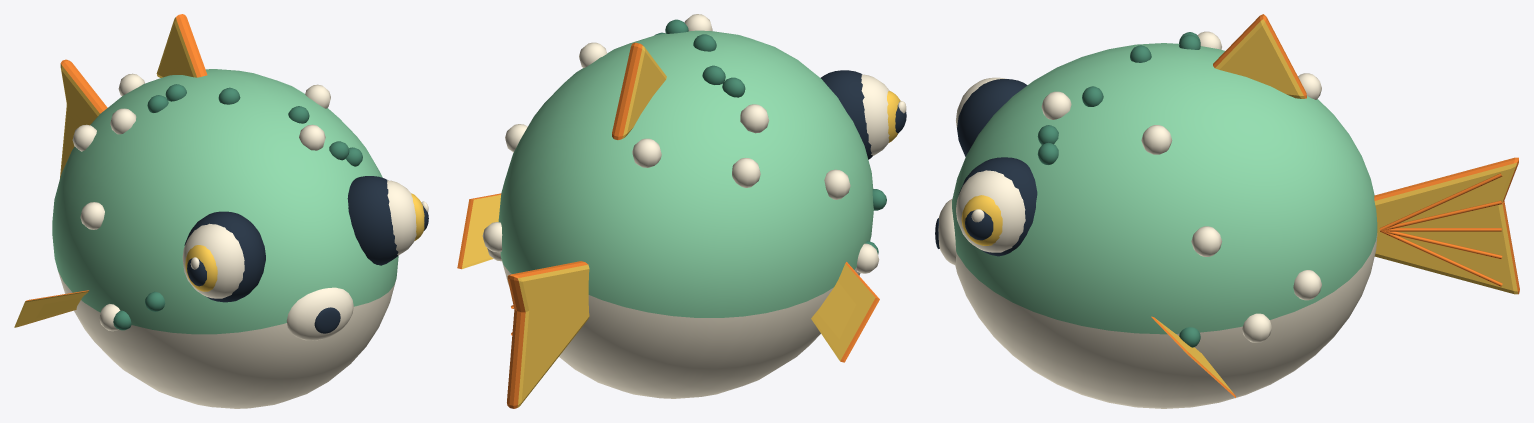
Rendered from pufferfish.glb.
The picture shows the model from 3 angles, left to right: view 1: azimuth 30°, elevation 25°; view 2: azimuth 150°, elevation 25°; view 3: azimuth 270°, elevation 25°; orthographic projection. The views are drawn at different scales.
Visible parts, largest first — view 1: BodyMesh, TailMesh; view 2: BodyMesh, TailMesh; view 3: BodyMesh, TailMesh.
Part boxes in pixels (bbox=[...]): BodyMesh: bbox=[14, 14, 428, 408]; TailMesh: bbox=[60, 59, 107, 177]; BodyMesh: bbox=[457, 14, 906, 398]; TailMesh: bbox=[507, 261, 589, 408]; BodyMesh: bbox=[935, 14, 1377, 408]; TailMesh: bbox=[1374, 157, 1519, 294].
Size of the model in its own units: 2.03 by 1.75 by 2.46.
